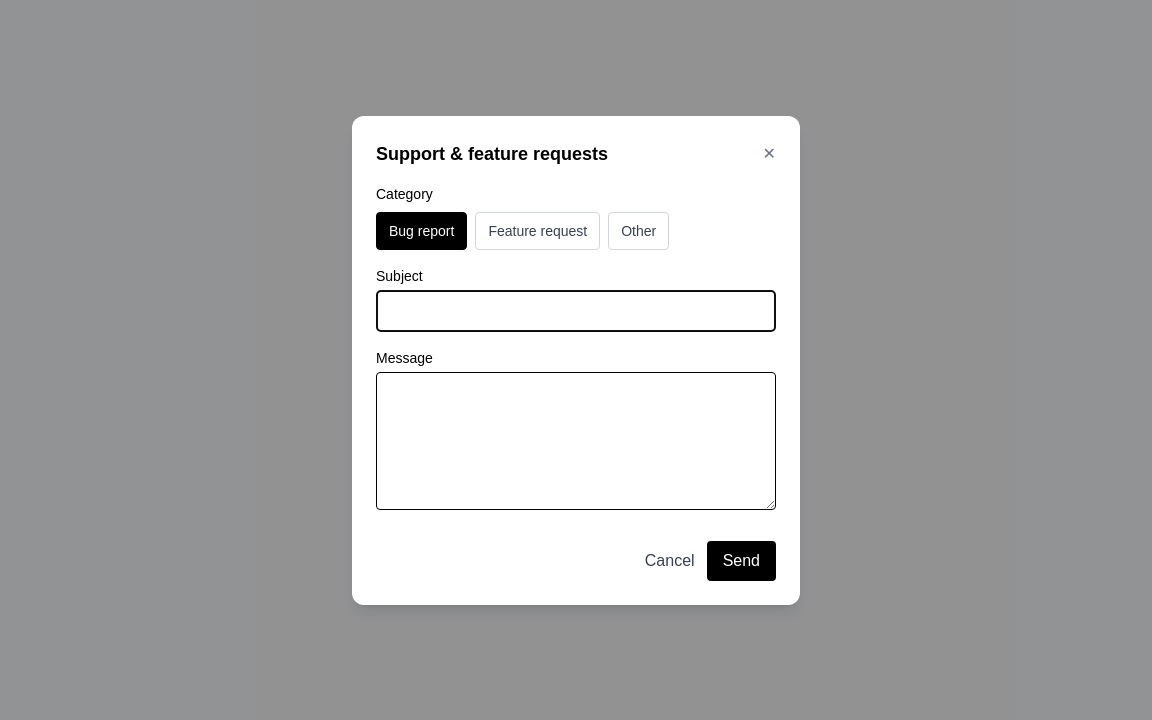
SupportModal › requires a message before submitting
This screenshot has width=1152, height=720.
Type "Broken button" into the field.
click(576, 310); type("Broken button")  # box [376,290,776,332]
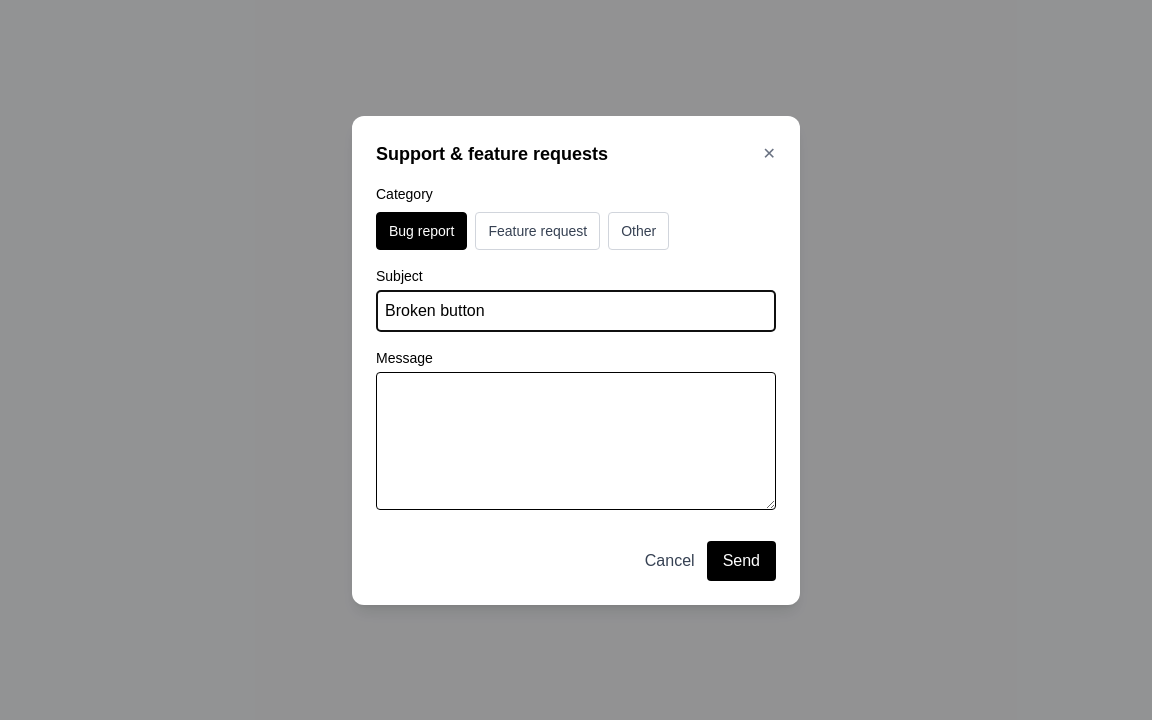
Click the button "Send".
click(741, 560)  # box [707,540,776,580]
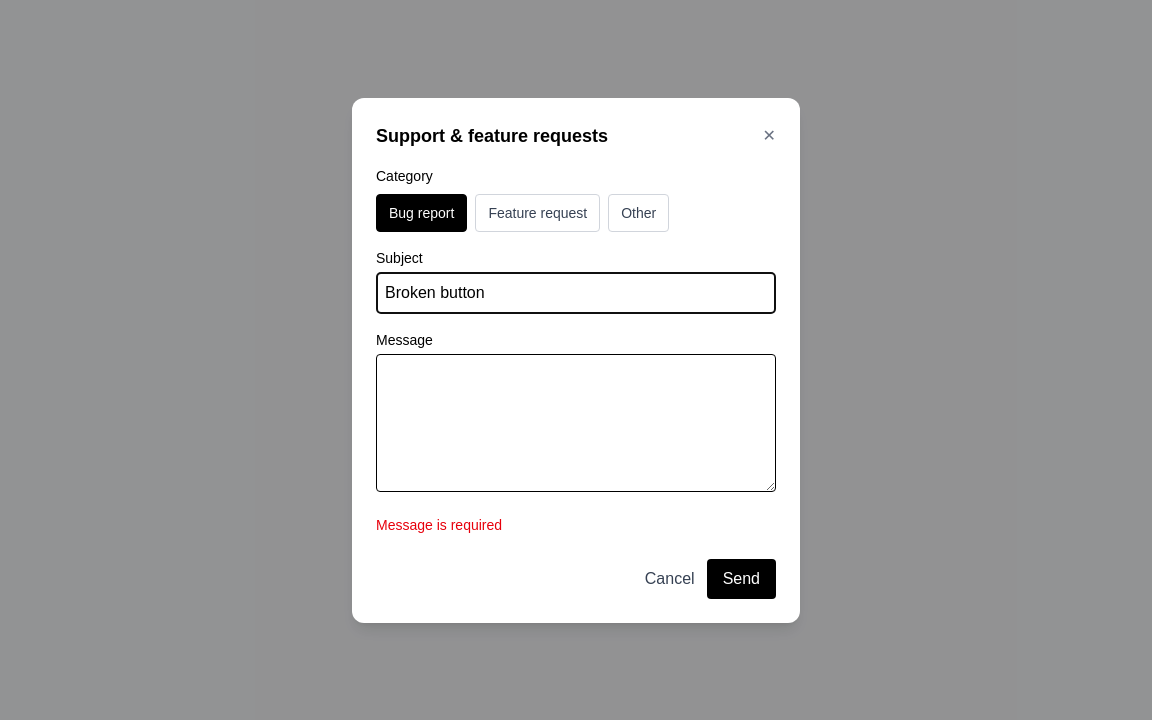
Expected: the text "Message is required" is shown, [376,516,502,532]
